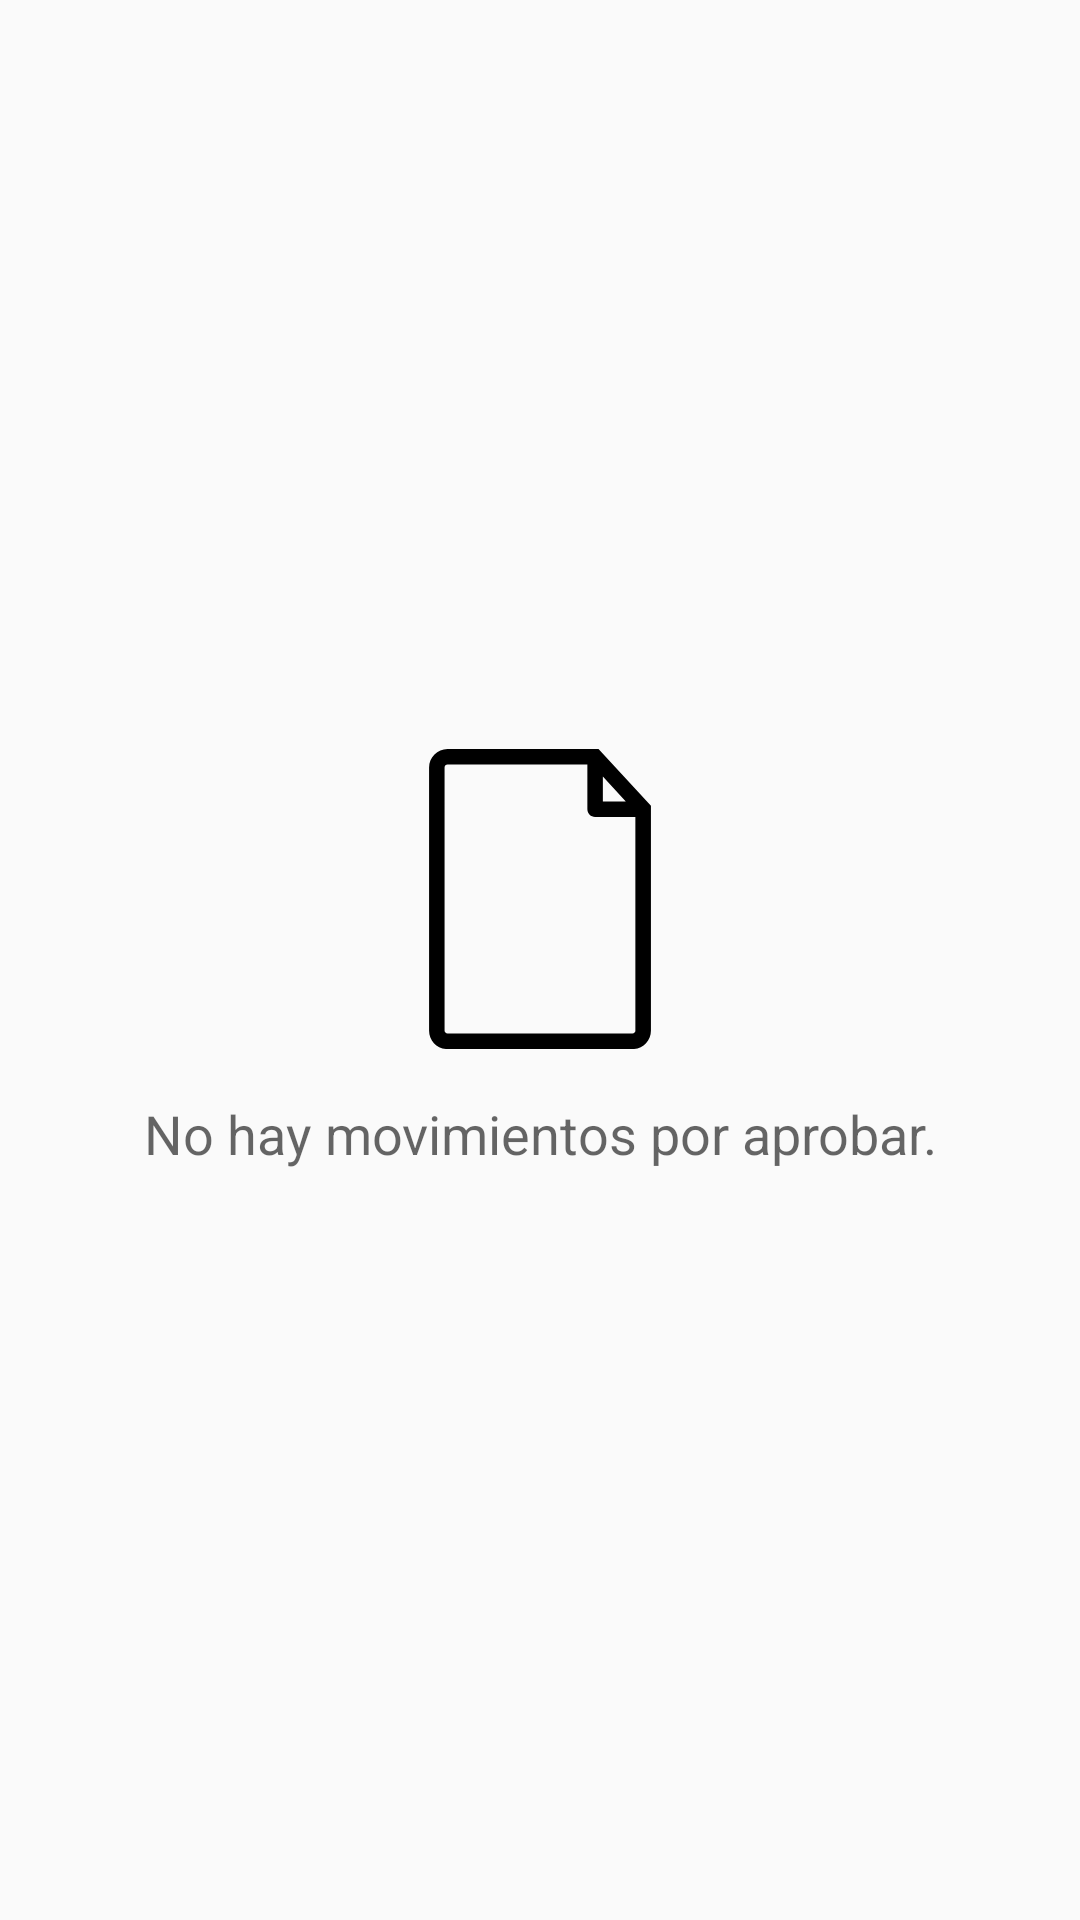

Named icons in this screenshot (1080 × 1920) and their centers, (x,y):
documento vacio: (540,899)
